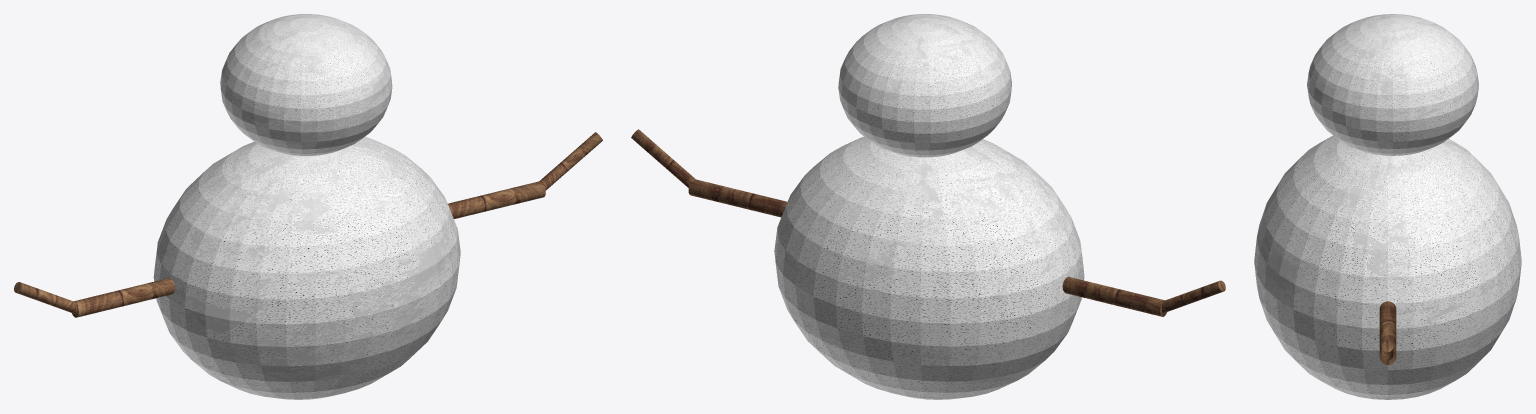
File: TexturedSnowWomen.obj
3 renders of one model, left to right at view 1: azimuth 30°, elevation 25°; view 2: azimuth 150°, elevation 25°; view 3: azimuth 270°, elevation 25°, orthographic.
Parts seen in each view (by area): view 1: Sphere_Sphere.001, Sphere.001_Sphere.003, Cylinder.002, Cylinder, Cylinder.001, Cylinder.003; view 2: Sphere_Sphere.001, Sphere.001_Sphere.003, Cylinder.002, Cylinder, Cylinder.001, Cylinder.003; view 3: Sphere_Sphere.001, Sphere.001_Sphere.003, Cylinder.
Boxes of the visible parts, <box> form: Sphere_Sphere.001: <box>153,136,460,399</box>; Sphere.001_Sphere.003: <box>220,14,392,155</box>; Cylinder.002: <box>72,278,175,317</box>; Cylinder: <box>448,181,545,218</box>; Cylinder.001: <box>539,132,602,190</box>; Cylinder.003: <box>14,282,77,314</box>; Sphere_Sphere.001: <box>774,136,1084,399</box>; Sphere.001_Sphere.003: <box>838,14,1011,157</box>; Cylinder.002: <box>1062,276,1166,316</box>; Cylinder: <box>688,179,787,217</box>; Cylinder.001: <box>631,129,695,187</box>; Cylinder.003: <box>1161,280,1225,313</box>; Sphere_Sphere.001: <box>1254,135,1521,399</box>; Sphere.001_Sphere.003: <box>1307,14,1478,155</box>; Cylinder: <box>1379,301,1396,364</box>.
Bounding box in the file's own units: 5.05 × 2.97 × 2.
